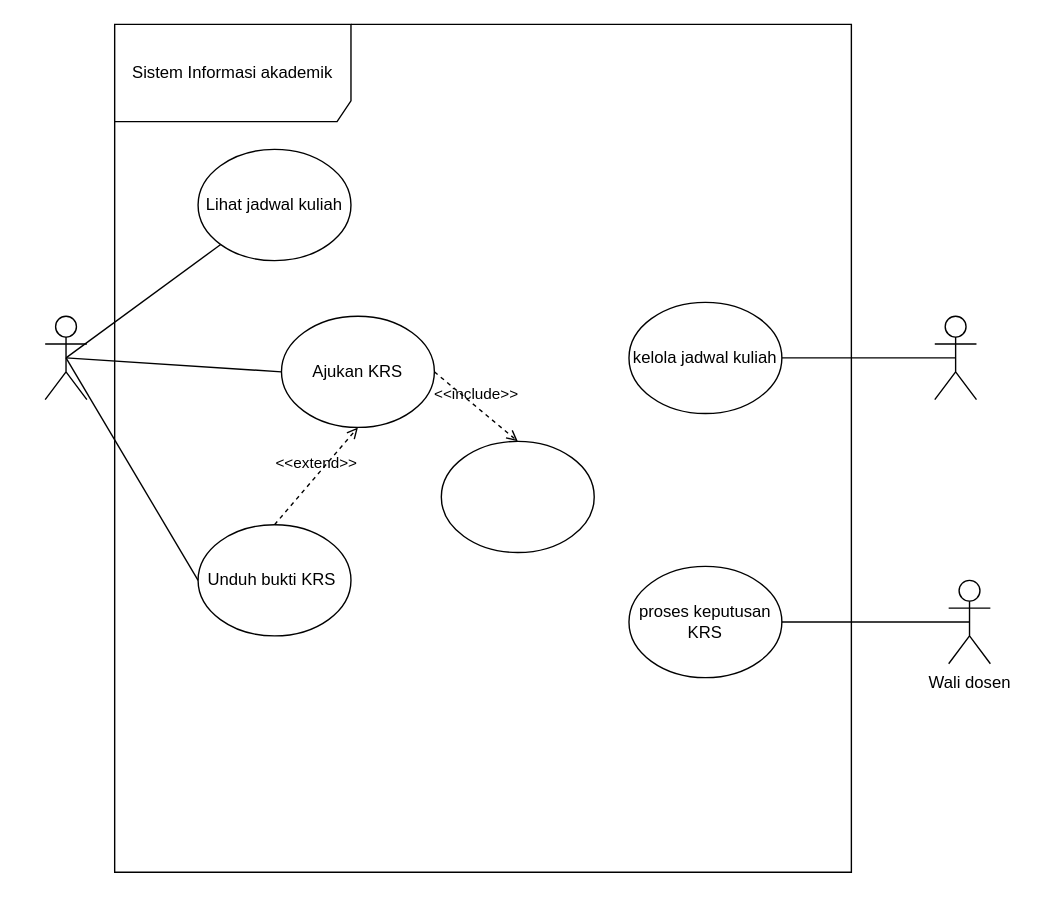
The diagram is 1041 pixels wide and 897 high, and some of its shapes have lost their labels. The shapes that lost their labels are listed below. From the top down, each one's box as (x1, y1, x2, y2) in pixels, then its label:
(44, 315, 87, 400): Mahasiswa
(933, 315, 976, 400): Admin akademik
(440, 440, 594, 553): Validasi KRS
